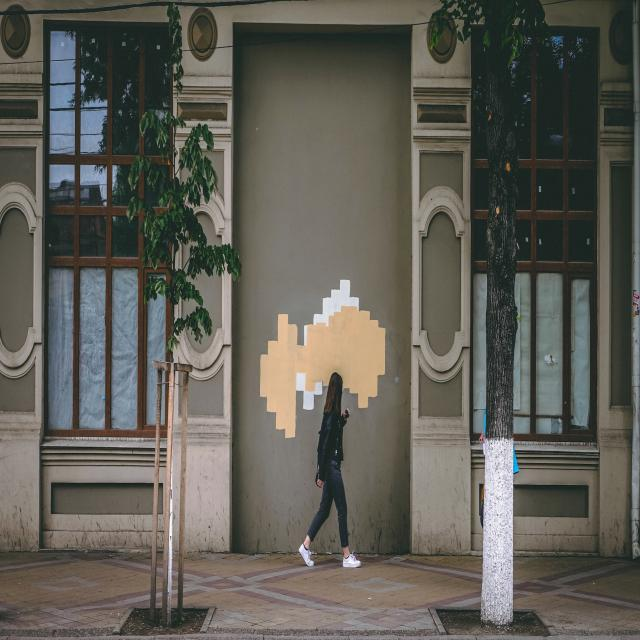adult: (299, 372, 361, 574)
